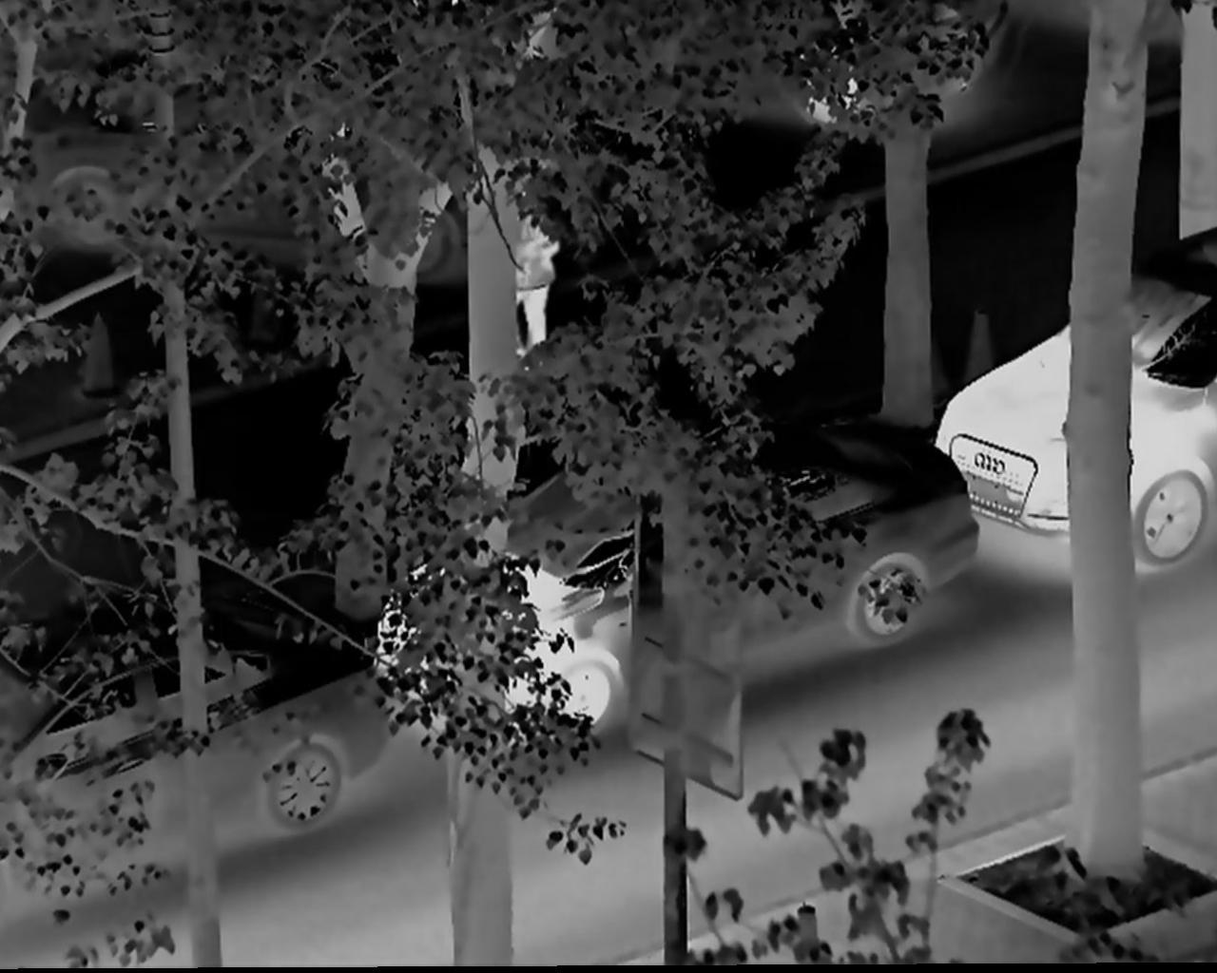person: (509, 191, 562, 347)
